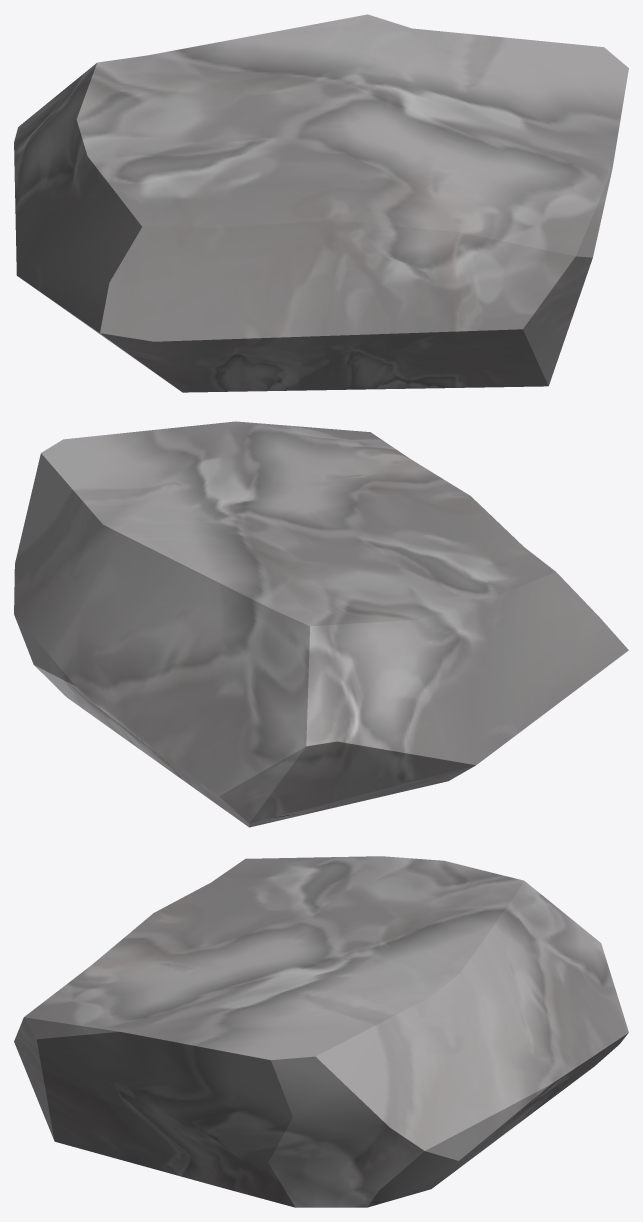
The model's file is pedra_01.fbx.
3 renders of one model, top to bottom at view 1: azimuth 30°, elevation 25°; view 2: azimuth 150°, elevation 25°; view 3: azimuth 270°, elevation 25°, orthographic. The views are drawn at different scales.
Visible parts, largest first — view 1: Pedra; view 2: Pedra; view 3: Pedra.
Part boxes in pixels (x1,y1,x2,y2): Pedra: [14, 14, 628, 392]; Pedra: [14, 421, 628, 827]; Pedra: [14, 856, 628, 1207].
Bounding box in the file's own units: 44.72 × 15.67 × 46.04.
